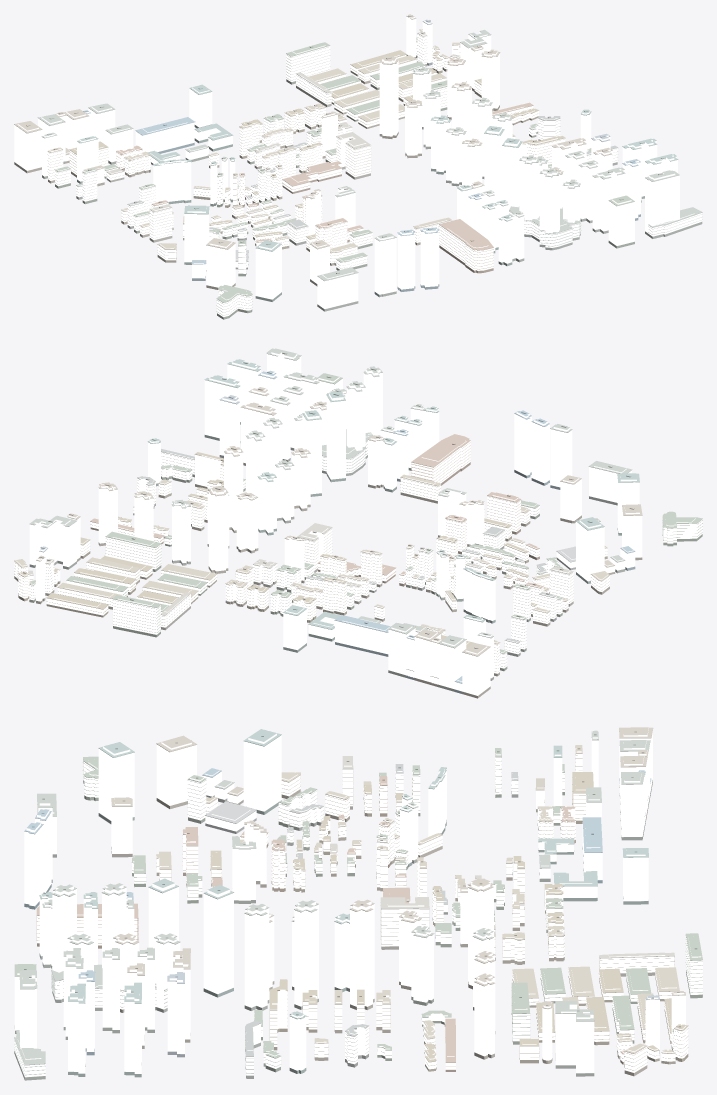
The model's file is buildings--8_1-fine.glb.
3 renders of one model, top to bottom at view 1: azimuth 30°, elevation 25°; view 2: azimuth 150°, elevation 25°; view 3: azimuth 270°, elevation 25°, orthographic. The views are drawn at different scales.
Parts seen in each view (by area): view 1: block_-8_1_office, block_-8_1_residential, block_-8_1_roof, block_-8_1_darkglass, block_-8_1_concrete, block_-8_1_steel; view 2: block_-8_1_office, block_-8_1_residential, block_-8_1_roof, block_-8_1_darkglass, block_-8_1_concrete, block_-8_1_steel; view 3: block_-8_1_office, block_-8_1_roof, block_-8_1_residential, block_-8_1_darkglass, block_-8_1_concrete, block_-8_1_steel.
Part boxes in pixels (x1=…): block_-8_1_office: x1=14, y1=15, x2=679, y2=309; block_-8_1_residential: x1=48, y1=29, x2=702, y2=317; block_-8_1_roof: x1=14, y1=14, x2=702, y2=315; block_-8_1_darkglass: x1=14, y1=55, x2=702, y2=319; block_-8_1_concrete: x1=48, y1=31, x2=702, y2=314; block_-8_1_steel: x1=14, y1=16, x2=679, y2=281; block_-8_1_office: x1=29, y1=352, x2=642, y2=695; block_-8_1_residential: x1=14, y1=432, x2=702, y2=673; block_-8_1_roof: x1=14, y1=348, x2=702, y2=683; block_-8_1_darkglass: x1=14, y1=422, x2=702, y2=698; block_-8_1_concrete: x1=14, y1=435, x2=702, y2=671; block_-8_1_steel: x1=30, y1=353, x2=642, y2=683; block_-8_1_office: x1=14, y1=728, x2=685, y2=1073; block_-8_1_roof: x1=14, y1=727, x2=702, y2=1077; block_-8_1_residential: x1=14, y1=748, x2=702, y2=1077; block_-8_1_darkglass: x1=14, y1=780, x2=702, y2=1080; block_-8_1_concrete: x1=15, y1=753, x2=702, y2=1075; block_-8_1_steel: x1=15, y1=734, x2=685, y2=1021.
Bounding box in the file's own units: 679 × 113 × 656.
